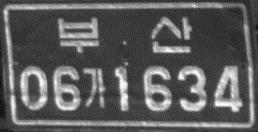0: (19, 63, 50, 112)
1: (110, 63, 132, 116)
3: (176, 65, 208, 113)
4: (209, 64, 248, 114)
6: (141, 64, 173, 112), (50, 64, 81, 113)
가: (80, 66, 108, 110)
부산_D: (55, 15, 195, 55)
